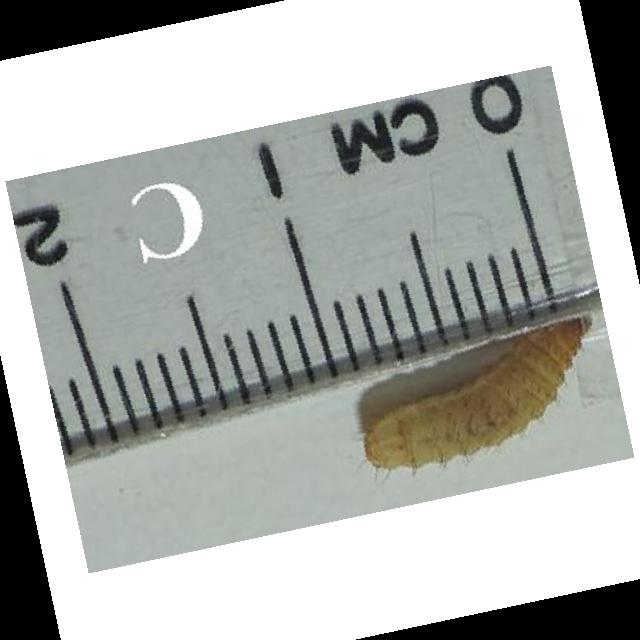Maggot: (357, 315, 599, 473)
